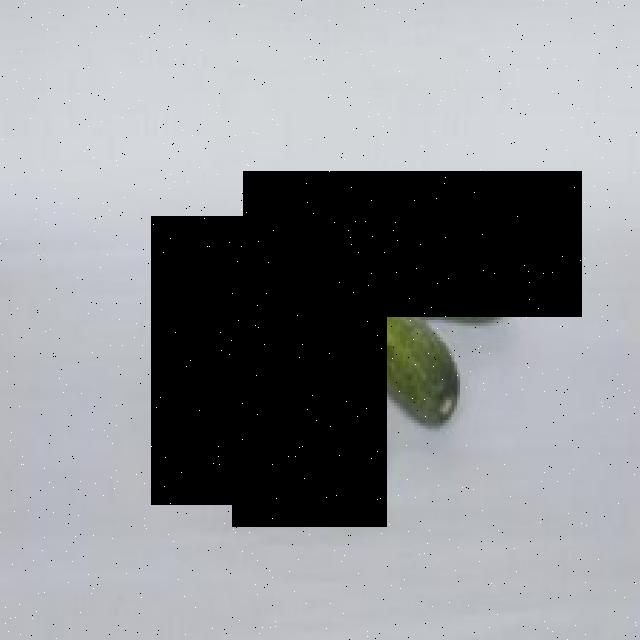Cucumber: (244, 172, 583, 318), (151, 217, 317, 506), (232, 250, 388, 527)
